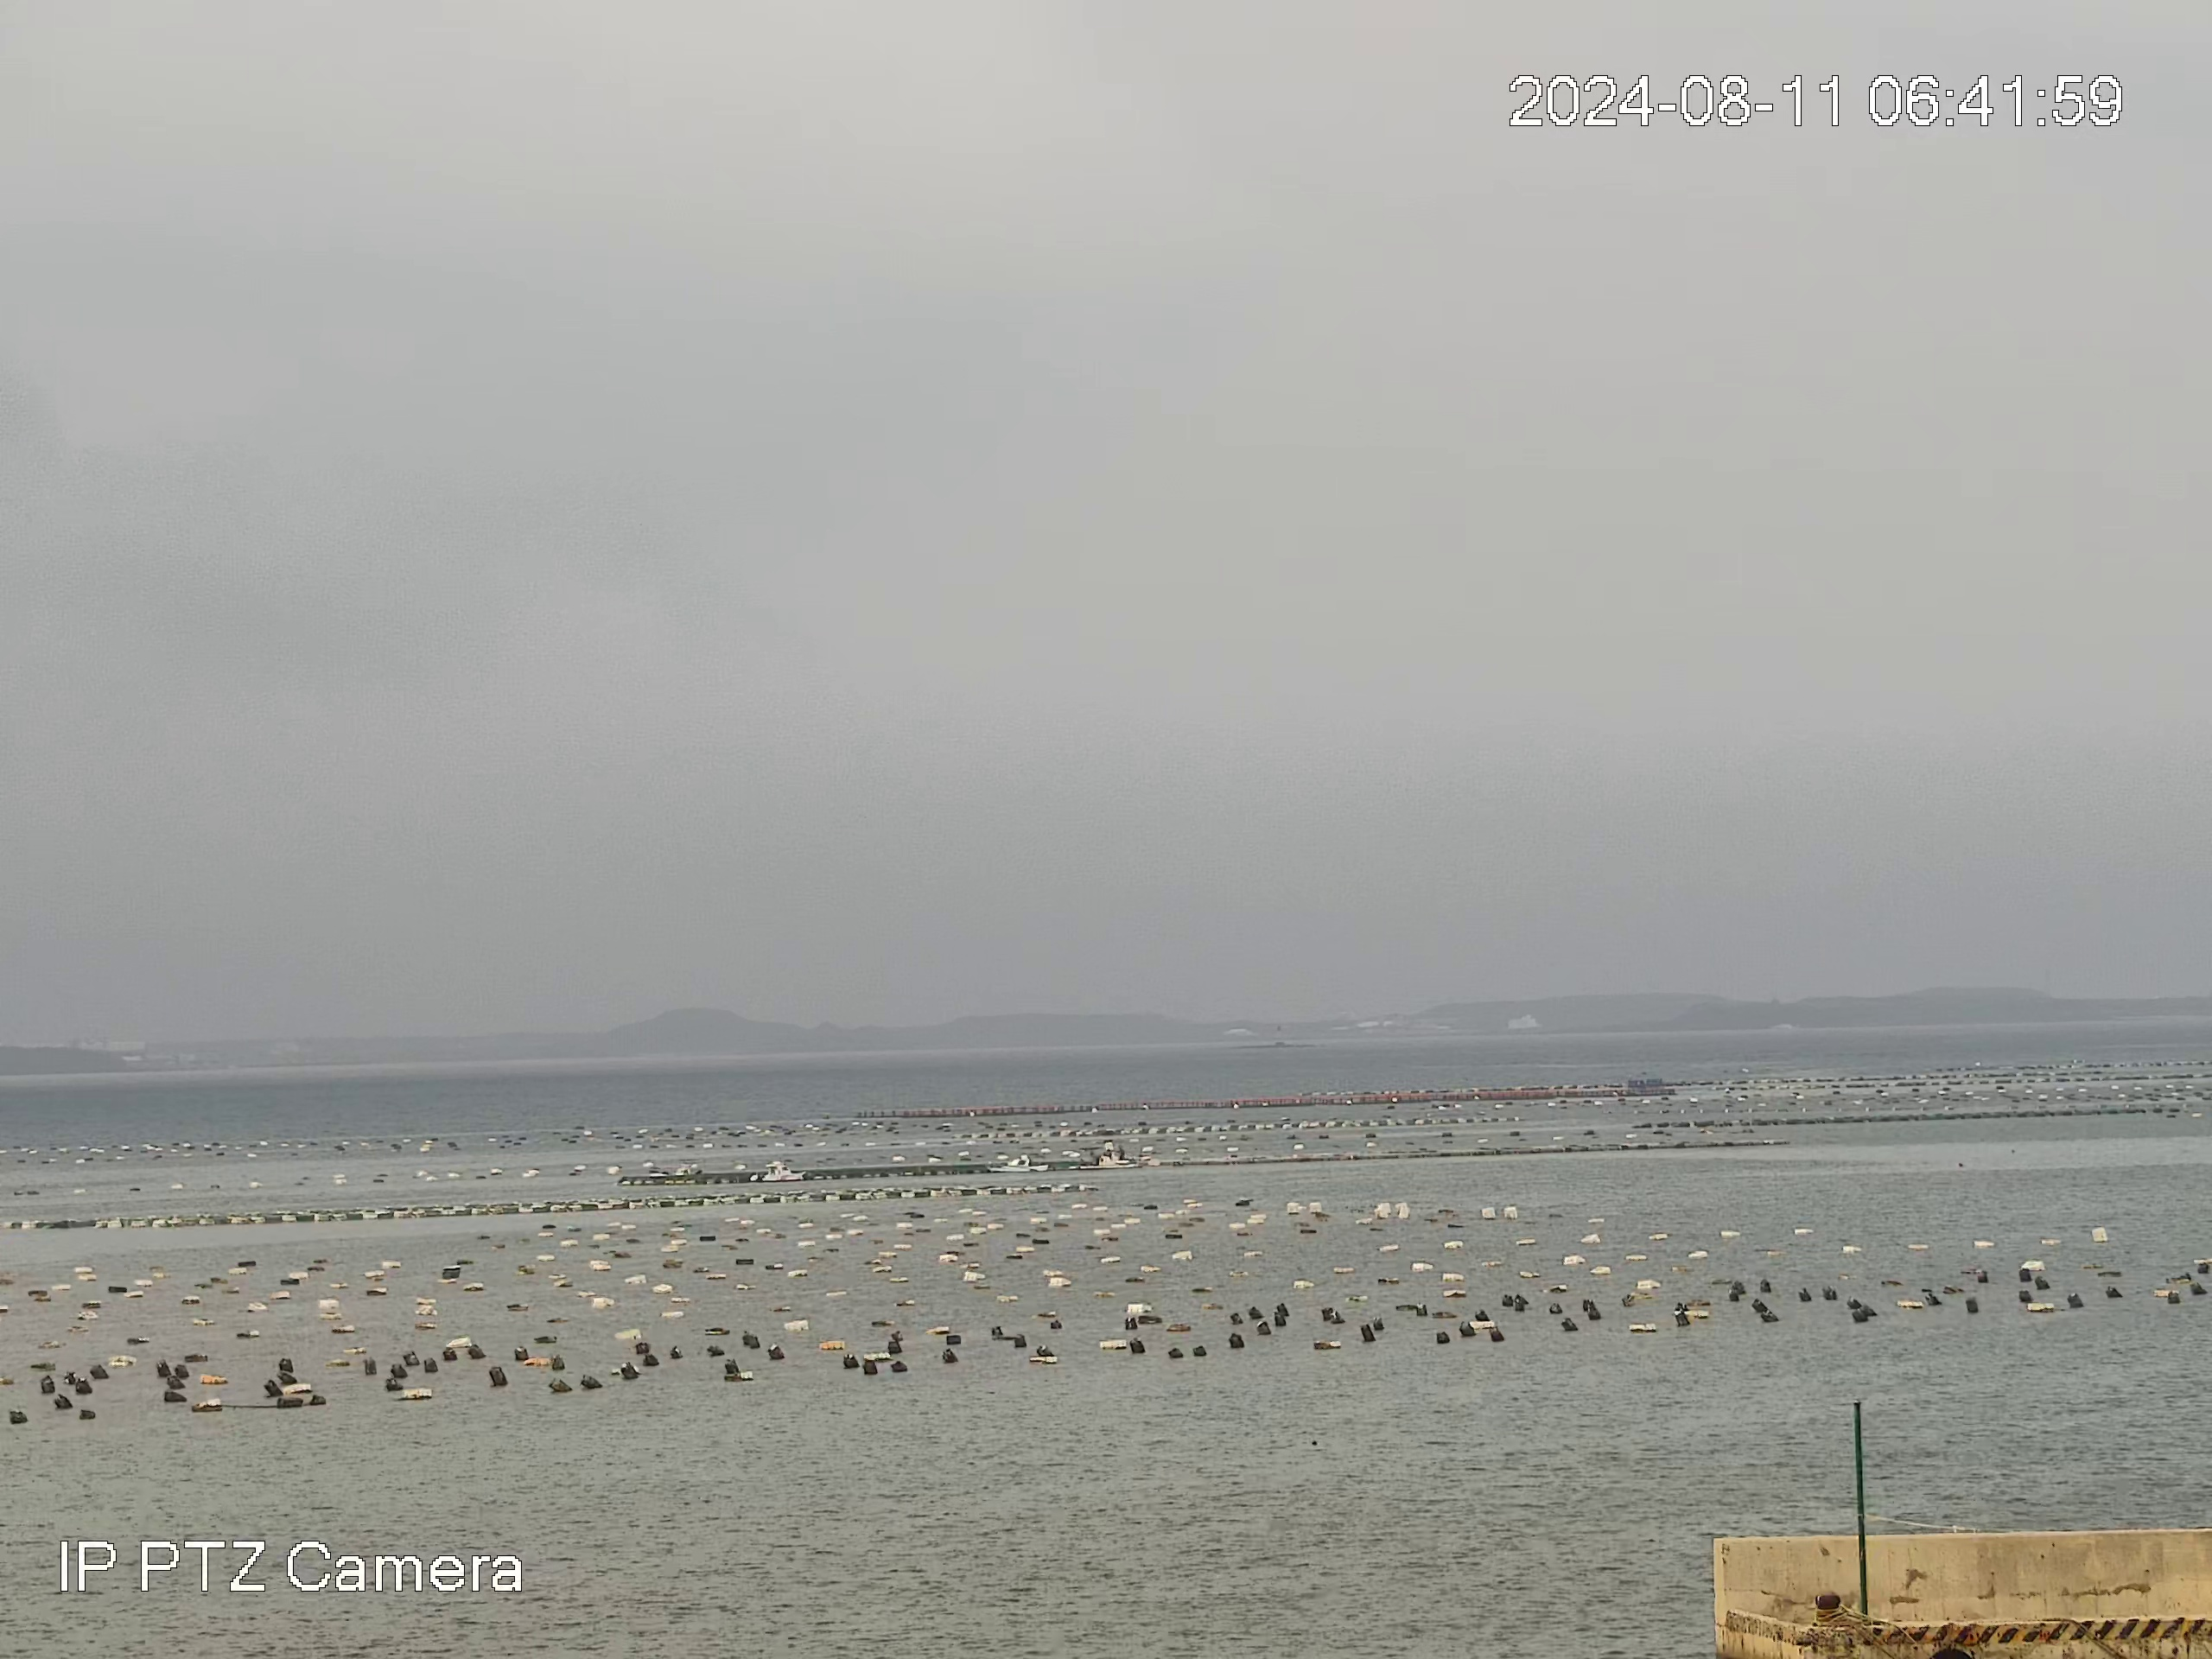boat: (984, 1152, 1050, 1173), (747, 1161, 805, 1182), (1066, 1152, 1123, 1173)
